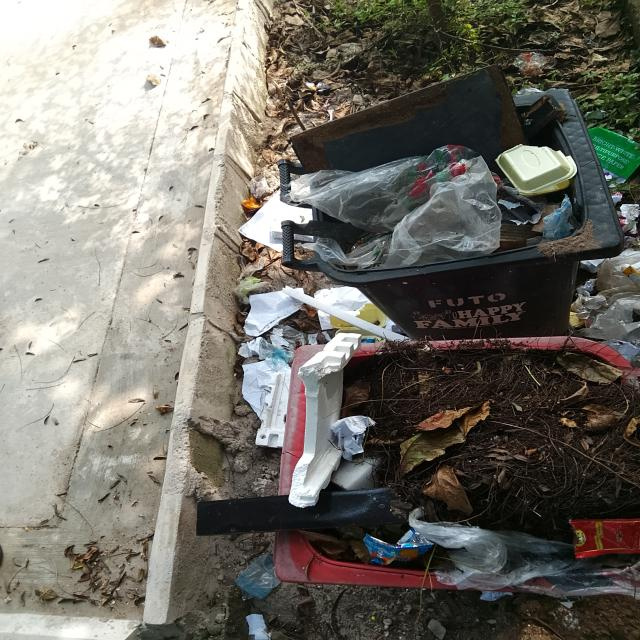overflowing: (281, 334, 640, 592), (278, 66, 640, 280)
